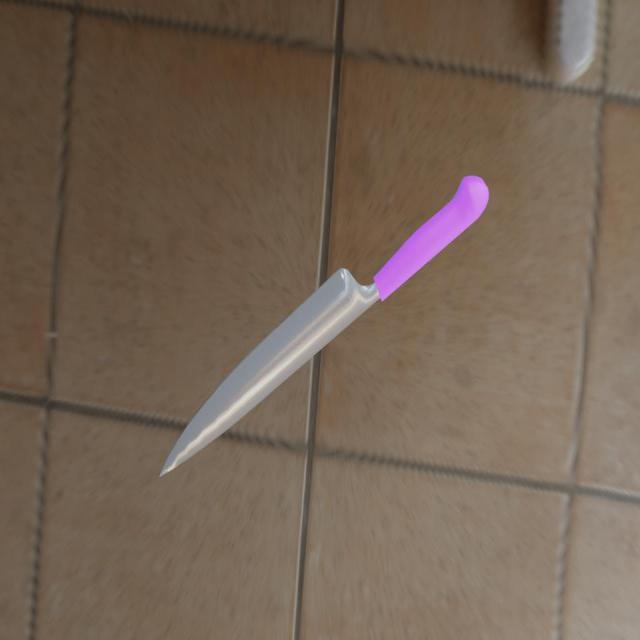knife: (372, 176, 490, 301)
